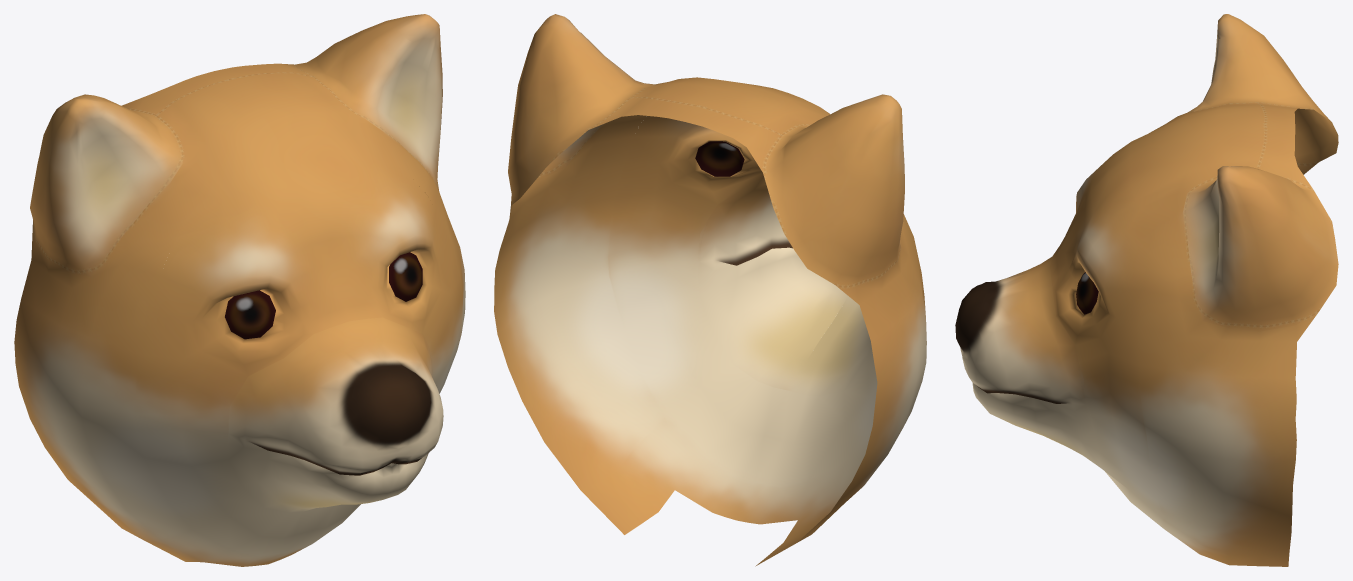
The model's file is facewear-dogemask.glb.
3 views of the same model, side by side, from view 1: azimuth 30°, elevation 25°; view 2: azimuth 150°, elevation 25°; view 3: azimuth 270°, elevation 25° (orthographic). The views are drawn at different scales.
Visible parts, largest first — view 1: Wolf3D_Facewear; view 2: Wolf3D_Facewear; view 3: Wolf3D_Facewear.
Part boxes in pixels (box(x1,y1,x2,y2)): Wolf3D_Facewear: box(14, 14, 465, 566); Wolf3D_Facewear: box(494, 14, 926, 566); Wolf3D_Facewear: box(955, 14, 1338, 566).
Size of the model in its own units: 0.2414 by 0.2792 by 0.2152.
Materials: 1 (1 with a texture image).
